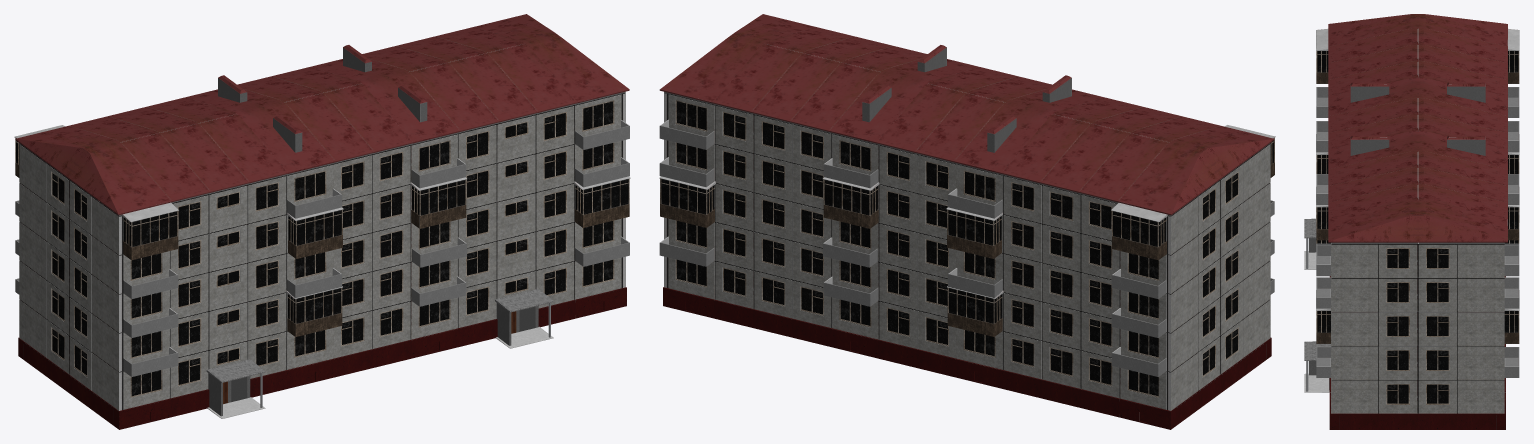
The model's file is building.fbx.
The picture shows the model from 3 angles, left to right: view 1: azimuth 30°, elevation 25°; view 2: azimuth 150°, elevation 25°; view 3: azimuth 270°, elevation 25°; orthographic projection. The views are drawn at different scales.
Parts seen in each view (by area): view 1: Roof_angle.002, Roof_long.001, Roof_long.002, Roof_angle.001, Roof_short.005, Roof_short.002, Roof_short.003, Roof_short.007, Roof_short.004, Roof_short.006, Roof_short.008, Roof_short.001 (+115 smaller); view 2: Roof_angle.004, Roof_long.003, Roof_long.004, Roof_angle.003, Roof_short.010, Roof_short.011, Roof_short.012, Roof_short.014, Roof_short.009, Roof_short.013, Roof_short.016, Roof_short.015 (+115 smaller); view 3: Roof_angle.003, Roof_angle.001, Roof_long.002, Roof_long.003, Roof_long.001, Roof_long.004, Roof_angle.002, Roof_angle.004, Wall_angle.001, Wall_angle.002, Wall_angle.005, Wall_angle.011 (+59 smaller).
Part boxes in pixels (x1,y1,x2,y2): Roof_angle.002: [67, 142, 171, 215]; Roof_long.001: [237, 102, 335, 175]; Roof_long.002: [362, 72, 460, 144]; Roof_angle.001: [525, 35, 629, 104]; Roof_short.005: [284, 93, 373, 163]; Roof_short.002: [448, 53, 537, 123]; Roof_short.003: [409, 62, 498, 133]; Roof_short.007: [159, 123, 249, 194]; Roof_short.004: [323, 83, 412, 154]; Roof_short.006: [198, 114, 287, 184]; Roof_short.008: [120, 133, 210, 203]; Roof_short.001: [486, 44, 576, 114]; Roof_angle.004: [1118, 142, 1222, 216]; Roof_long.003: [829, 72, 927, 144]; Roof_long.004: [954, 102, 1052, 175]; Roof_angle.003: [659, 35, 763, 104]; Roof_short.010: [751, 53, 841, 123]; Roof_short.011: [790, 62, 880, 133]; Roof_short.012: [876, 84, 966, 154]; Roof_short.014: [1001, 114, 1091, 184]; Roof_short.009: [713, 44, 802, 114]; Roof_short.013: [915, 93, 1005, 163]; Roof_short.016: [1079, 133, 1169, 203]; Roof_short.015: [1040, 123, 1130, 194]; Roof_angle.003: [1418, 200, 1507, 243]; Roof_angle.001: [1328, 200, 1417, 243]; Roof_long.002: [1328, 131, 1417, 169]; Roof_long.003: [1418, 131, 1507, 169]; Roof_long.001: [1328, 78, 1417, 115]; Roof_long.004: [1418, 78, 1507, 116]; Roof_angle.002: [1328, 14, 1417, 46]; Roof_angle.004: [1418, 14, 1507, 46]; Wall_angle.001: [1331, 379, 1378, 413]; Wall_angle.002: [1331, 345, 1378, 379]; Wall_angle.005: [1331, 243, 1378, 277]; Wall_angle.011: [1457, 379, 1504, 413].
Size of the model in its own units: 3498 by 1590 by 1462.
